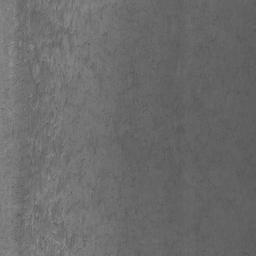Silk spot: (0, 0, 256, 256), (241, 222, 256, 256)
